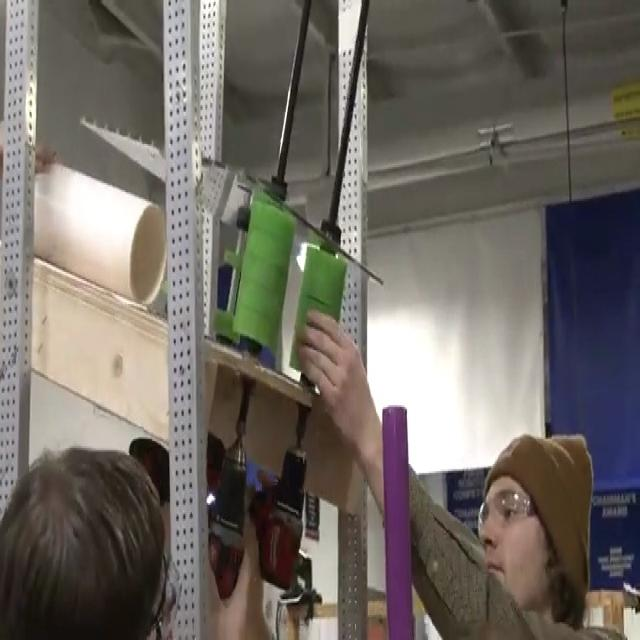Coral: (31, 158, 167, 306)
